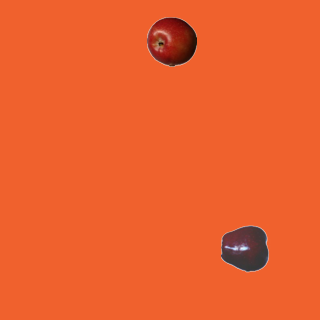Apple Braeburn: (146, 16, 196, 66)
Apple Red Delicious: (220, 223, 270, 273)
